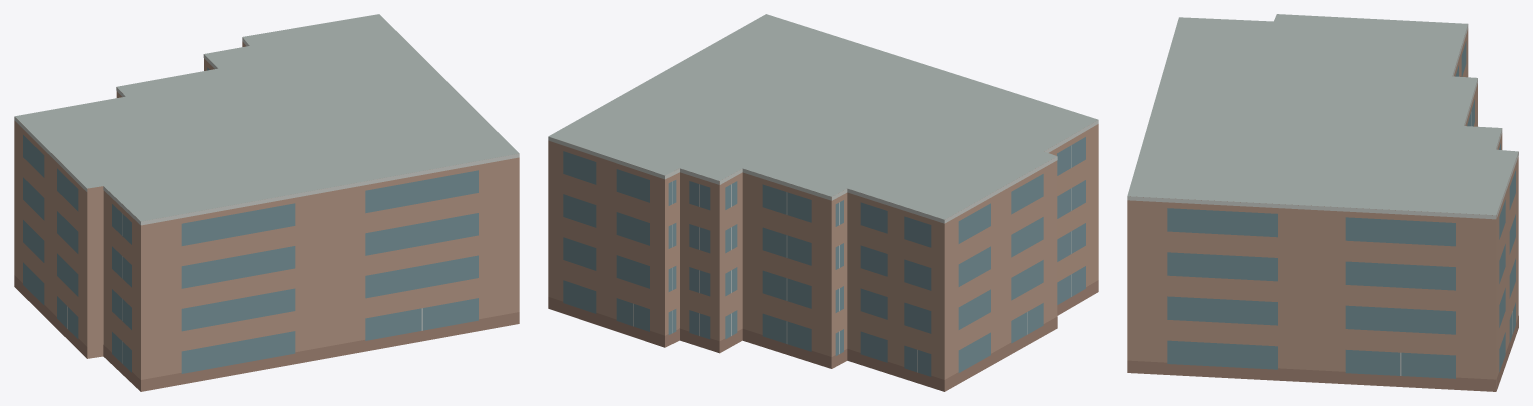
File: survey-upis-32930153.glb
The picture shows the model from 3 angles, left to right: view 1: azimuth 30°, elevation 25°; view 2: azimuth 150°, elevation 25°; view 3: azimuth 270°, elevation 25°; orthographic projection. The views are drawn at different scales.
Parts seen in each view (by area): view 1: survey-upis-32930153.tmp; view 2: survey-upis-32930153.tmp; view 3: survey-upis-32930153.tmp.
Part boxes in pixels (left/top/right/bottom): survey-upis-32930153.tmp: left=14, top=14, right=519, bottom=391; survey-upis-32930153.tmp: left=548, top=14, right=1098, bottom=391; survey-upis-32930153.tmp: left=1127, top=14, right=1518, bottom=391.
Bounding box in the file's own units: 25.92 × 10.6 × 21.31.
